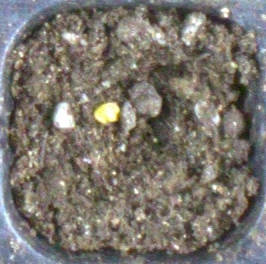pepper seed: (32, 39, 153, 164)
